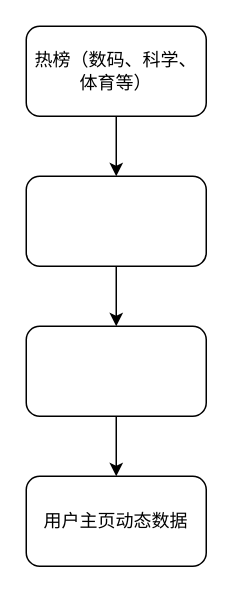
Some shapes in this 233 by 593 pixel diagram are drawn without their labels. Each missing label, with the centre of its shape:
回答热榜问题的用户ID: (115,370)
热榜下问题的ID: (115,220)
